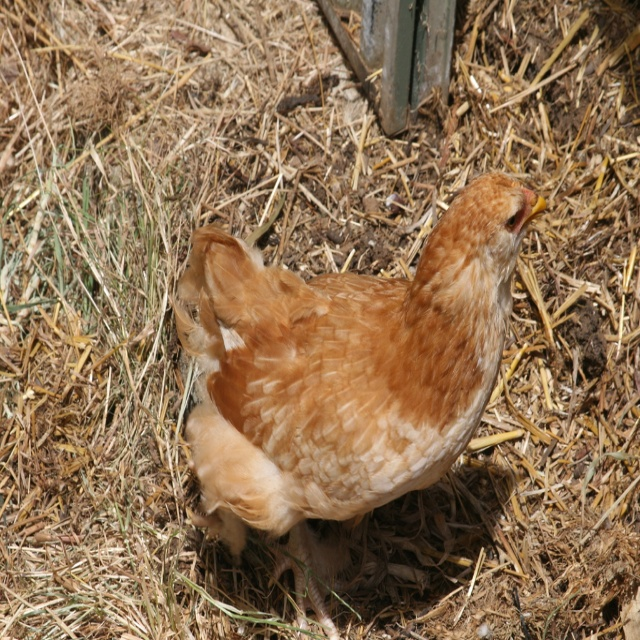Chicken: (170, 166, 548, 639)
